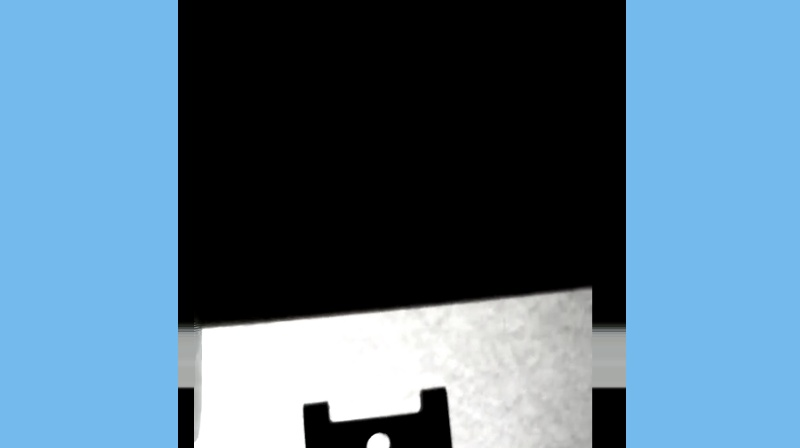O002: (297, 380, 457, 447)
